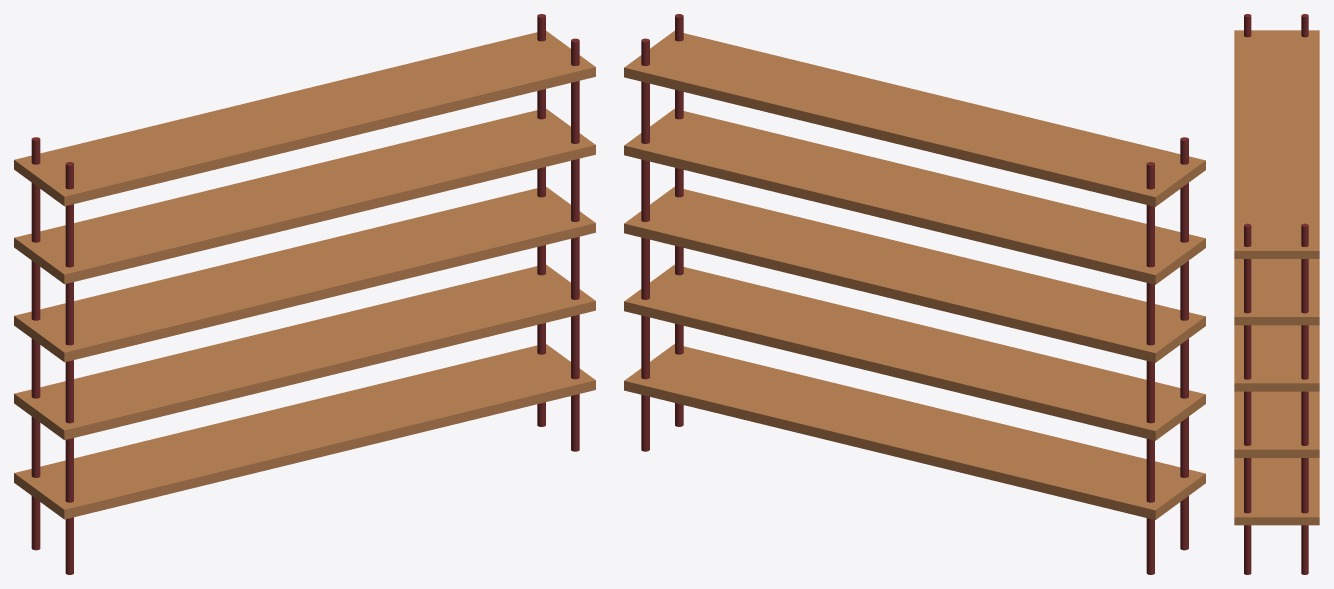
Rendered from shelves.glb.
The picture shows the model from 3 angles, left to right: view 1: azimuth 30°, elevation 25°; view 2: azimuth 150°, elevation 25°; view 3: azimuth 270°, elevation 25°; orthographic projection. The views are drawn at different scales.
Parts seen in each view (by area): view 1: 319_Zylinder.2; view 2: 319_Zylinder.2; view 3: 319_Zylinder.2.
Boxes of the visible parts, box(x1,y1,x2,y2) form: 319_Zylinder.2: box(14, 14, 595, 574); 319_Zylinder.2: box(624, 14, 1205, 574); 319_Zylinder.2: box(1234, 14, 1319, 574).
Bounding box in the file's own units: 143 × 105 × 23.41.
